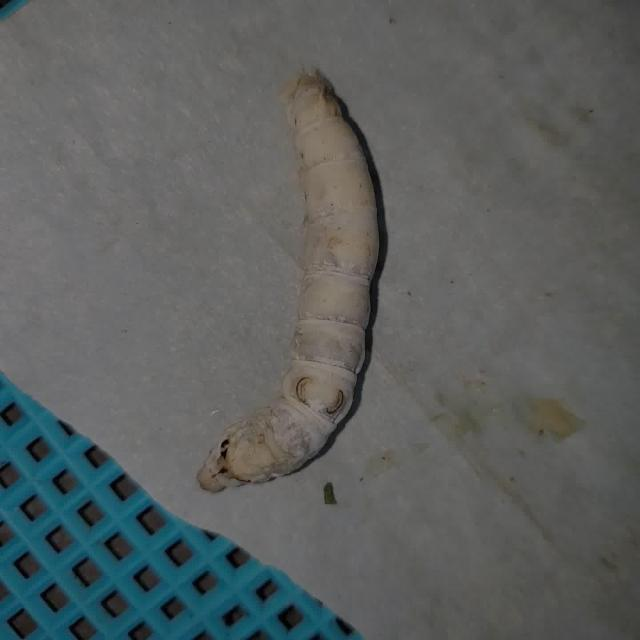Grasserie: (186, 44, 406, 518)
